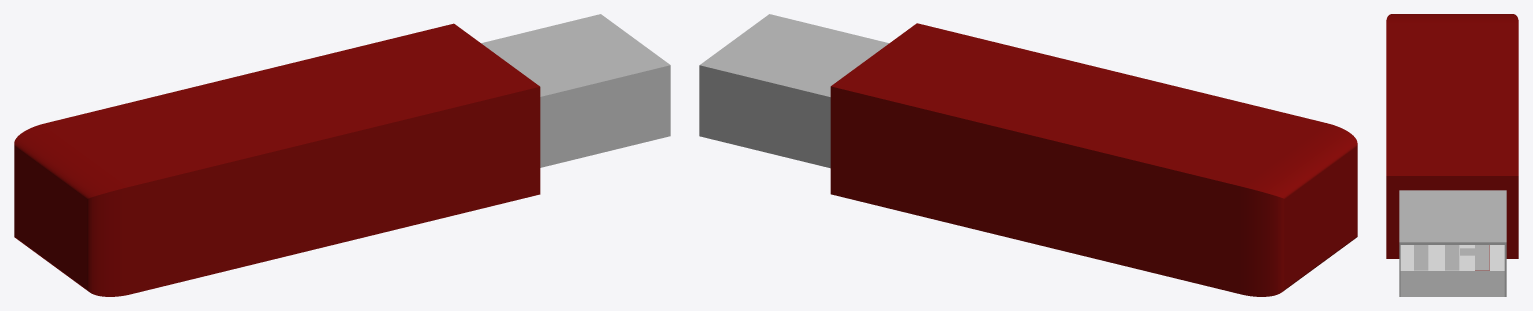
File: Flashdrive.glb
3 views of the same model, side by side, from view 1: azimuth 30°, elevation 25°; view 2: azimuth 150°, elevation 25°; view 3: azimuth 270°, elevation 25° (orthographic). The views are drawn at different scales.
Visible parts, largest first — view 1: Flashdrive_red; view 2: Flashdrive_red; view 3: Flashdrive_red.
Boxes of the visible parts, x1,y1,x2,y2 form: Flashdrive_red: (14, 14, 670, 296); Flashdrive_red: (699, 14, 1357, 296); Flashdrive_red: (1386, 14, 1518, 296).
Bounding box in the file's own units: 4.82 × 0.8487 × 1.23.
